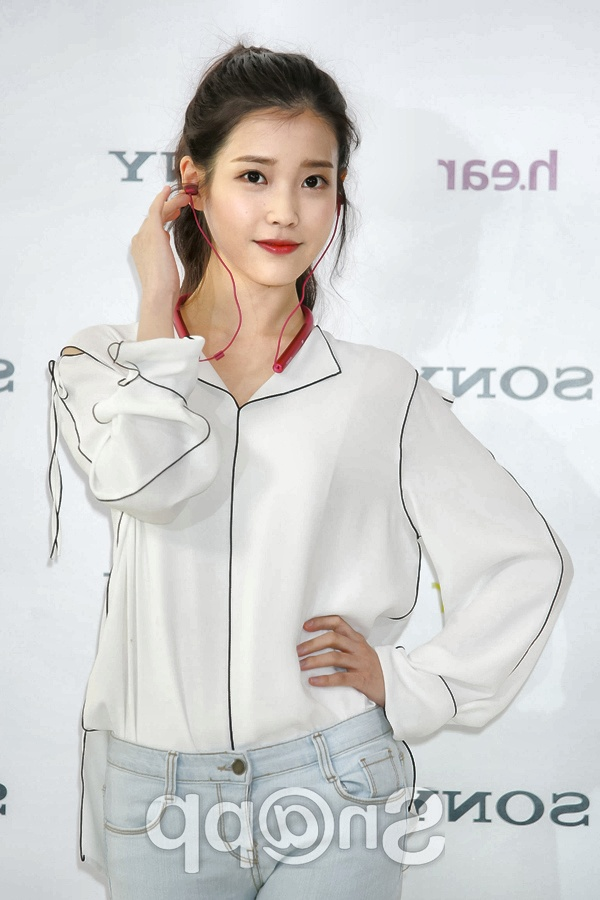earphone: (181, 155, 204, 211), (336, 167, 349, 216)
